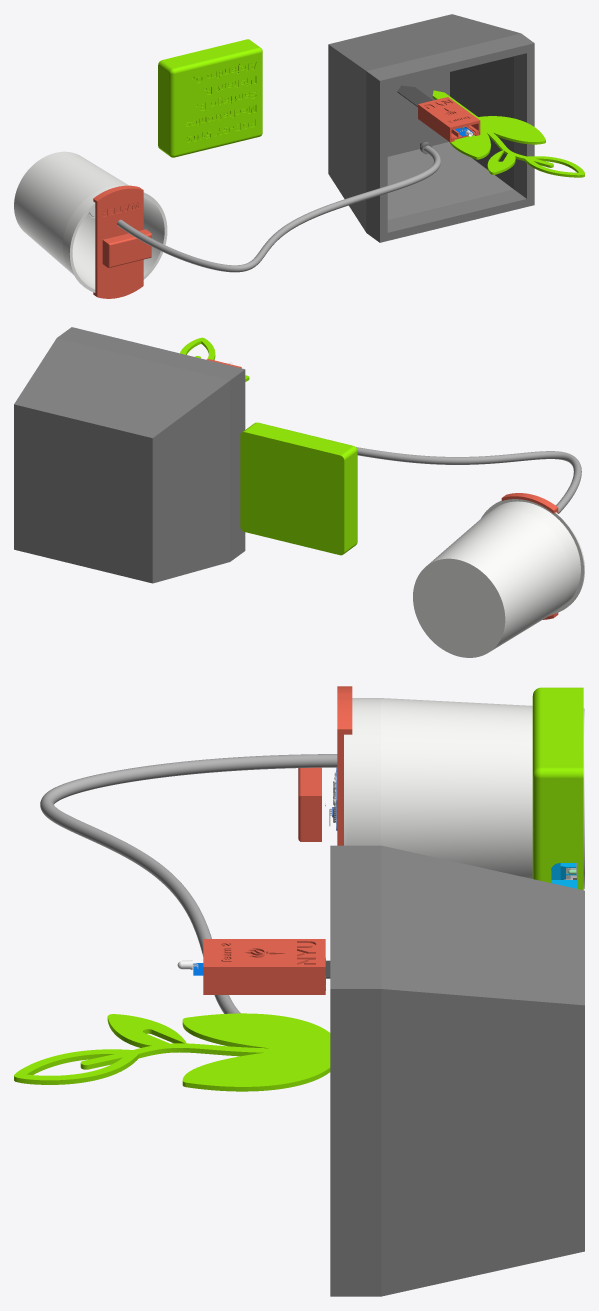
Rendered from SmartWateringSystem v12.glb.
3 views of the same model, one above another, from view 1: azimuth 30°, elevation 25°; view 2: azimuth 150°, elevation 25°; view 3: azimuth 270°, elevation 25° (orthographic). The views are drawn at different scales.
Parts seen in each view (by area): view 1: Body1:99, Body1:105, Body1:97, Body1:100, Body1:107, Body1:108, Body1:101, Body2:6, Body1:3; view 2: Body1:99, Body1:97, Body1:106, Body1:105, Body1:108, Body1:100; view 3: Body1:99, Body1:97, Body1:107, Body1:105, Body1:108, Body1:101, Body2:6, Body1:100, Body1:106.
Part boxes in pixels (x1,y1,x2,y2): Body1:99: (328, 14, 534, 242); Body1:105: (159, 40, 262, 157); Body1:97: (14, 151, 167, 292); Body1:100: (93, 185, 143, 298); Body1:107: (432, 90, 584, 177); Body1:108: (117, 145, 440, 272); Body1:101: (418, 97, 480, 142); Body2:6: (102, 229, 151, 267); Body1:3: (397, 85, 432, 106); Body1:99: (14, 327, 245, 583); Body1:97: (413, 499, 584, 657); Body1:106: (240, 431, 345, 555); Body1:105: (244, 422, 357, 552); Body1:108: (356, 447, 581, 513); Body1:100: (501, 493, 558, 619); Body1:99: (330, 845, 584, 1296); Body1:97: (344, 698, 584, 889); Body1:107: (14, 1013, 330, 1091); Body1:105: (532, 687, 580, 882); Body1:108: (40, 754, 337, 1013); Body1:101: (203, 939, 325, 994); Body2:6: (298, 767, 321, 841); Body1:100: (337, 686, 352, 845); Body1:106: (577, 687, 583, 890).
Bounding box in the file's own units: 0.5961 × 0.211 × 0.3364.
